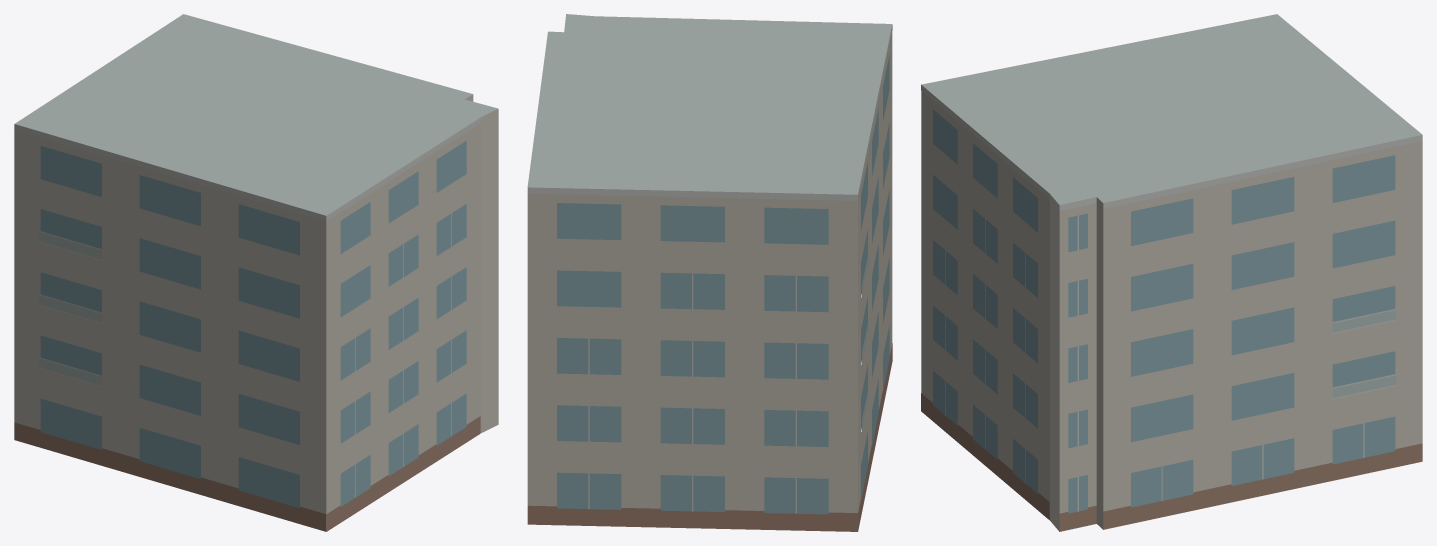
The model's file is survey-upis-32743662.glb.
The picture shows the model from 3 angles, left to right: view 1: azimuth 30°, elevation 25°; view 2: azimuth 150°, elevation 25°; view 3: azimuth 270°, elevation 25°; orthographic projection. The views are drawn at different scales.
Parts seen in each view (by area): view 1: survey-upis-32743662.tmp; view 2: survey-upis-32743662.tmp; view 3: survey-upis-32743662.tmp.
Part boxes in pixels (x1,y1,x2,y2): survey-upis-32743662.tmp: (14,14,498,531); survey-upis-32743662.tmp: (527,14,892,531); survey-upis-32743662.tmp: (921,14,1422,531).
Size of the model in its own units: 16.82 by 13.4 by 18.65.
